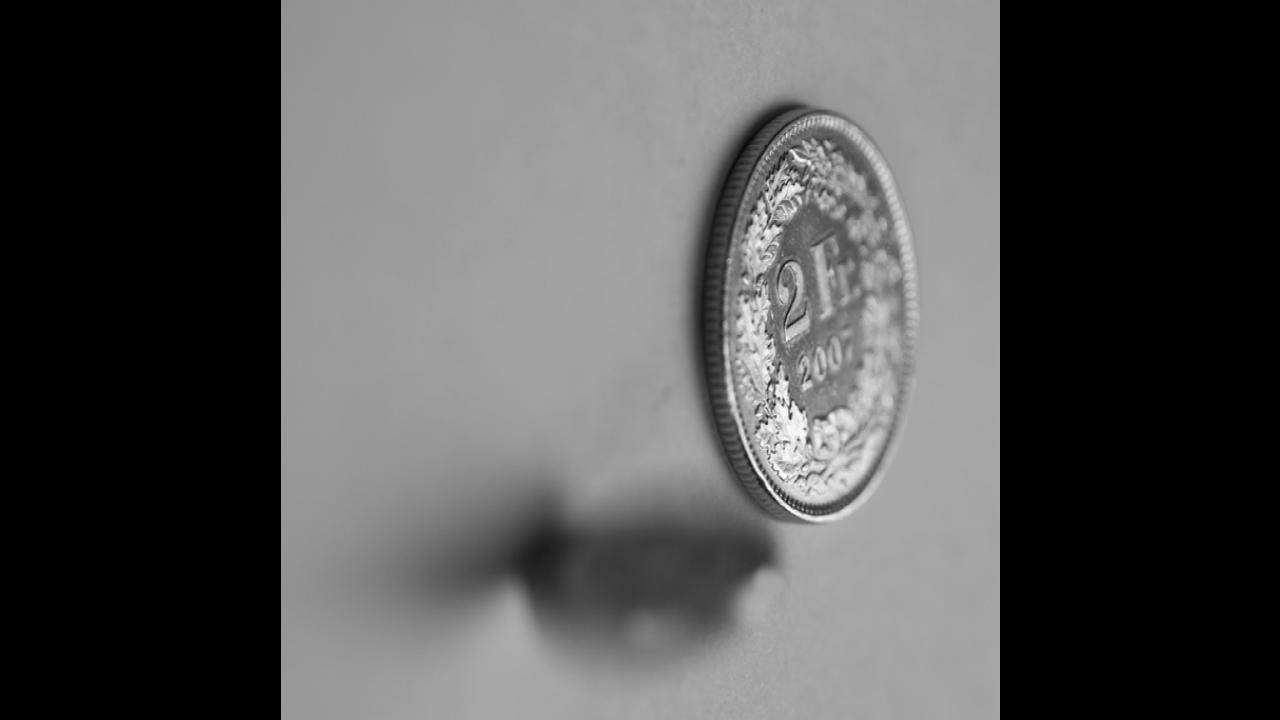coin: (702, 104, 922, 526)
